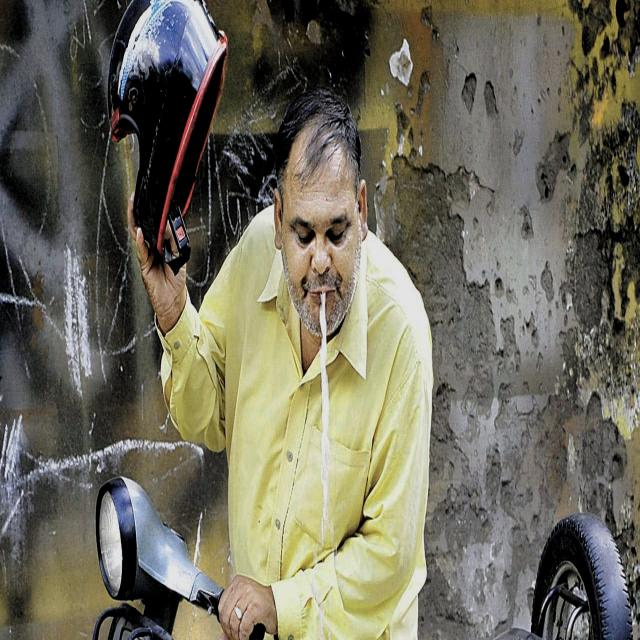Spitting: (266, 88, 371, 440)
